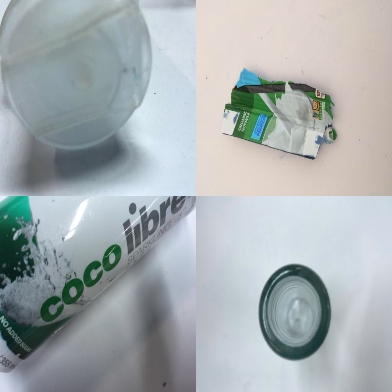cardboard: (221, 68, 337, 159)
glass: (258, 263, 331, 361)
plastic: (1, 195, 196, 375), (1, 1, 154, 150)
